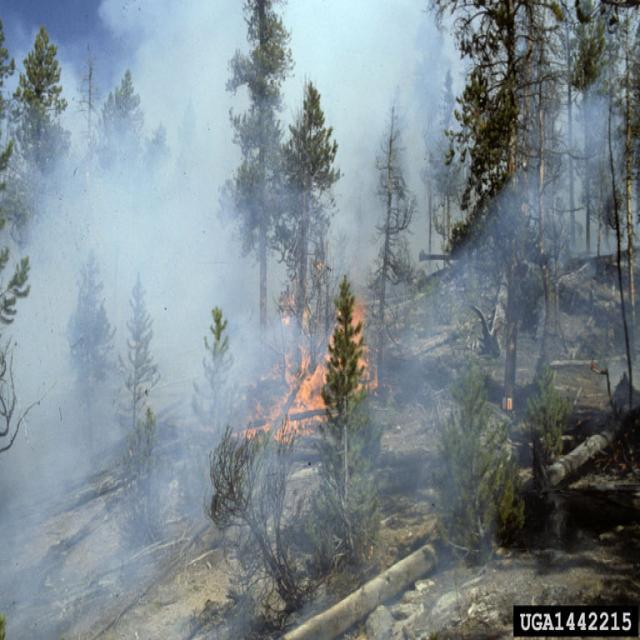Fire: (234, 299, 378, 443)
